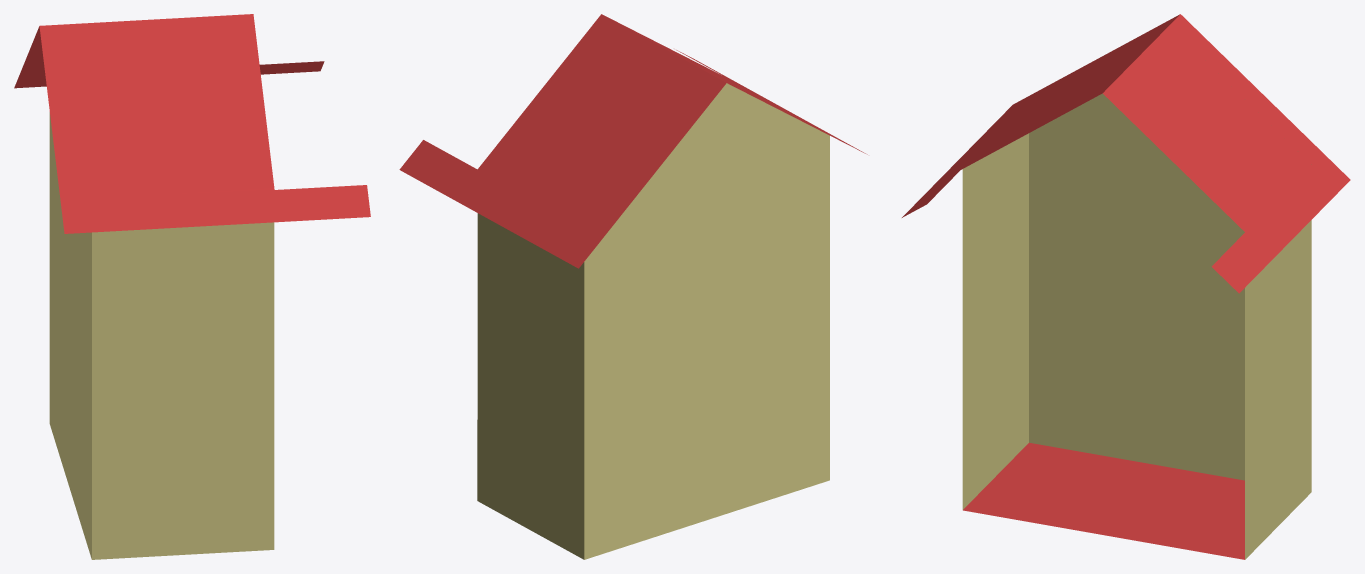
3 renders of one model, left to right at view 1: azimuth 30°, elevation 25°; view 2: azimuth 150°, elevation 25°; view 3: azimuth 270°, elevation 25°, orthographic. The views are drawn at different scales.
Size of the model in its own units: 10.25 by 11.26 by 12.2.
